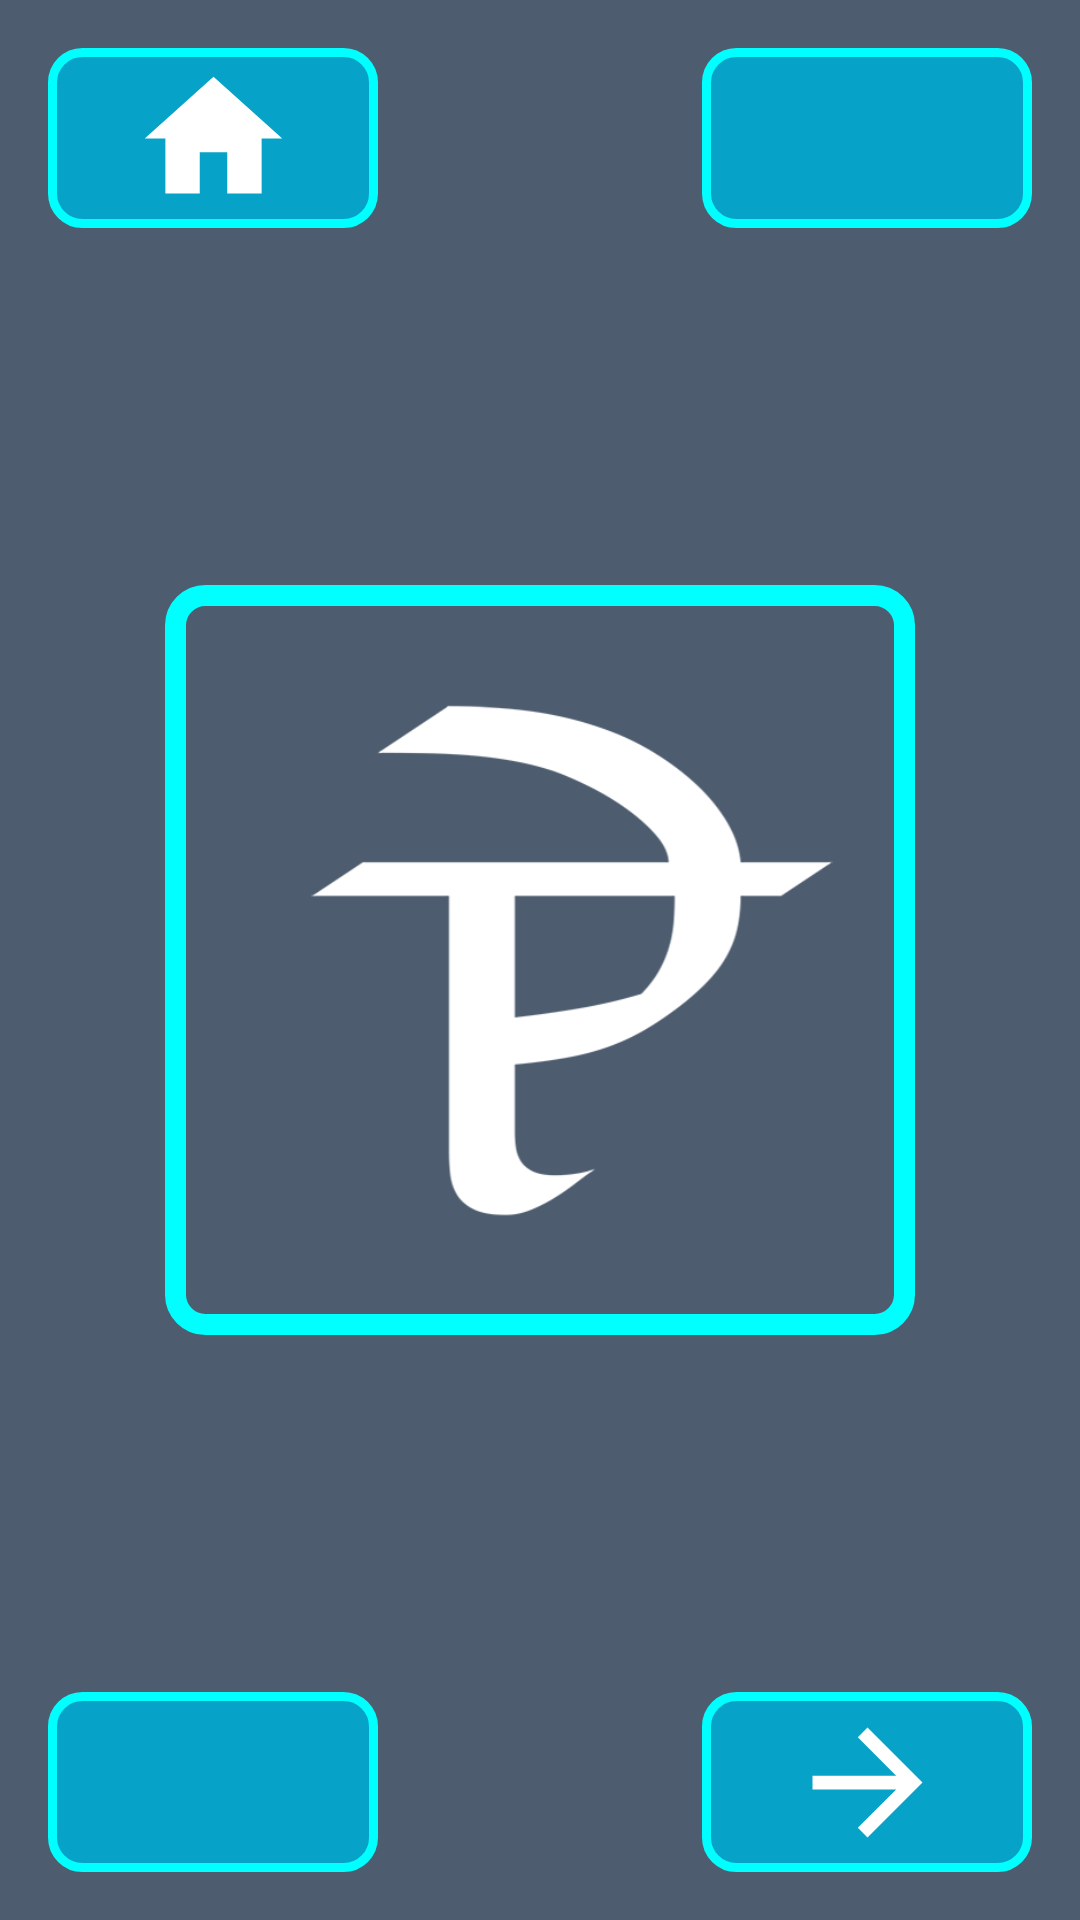

Icon bounding boxes for this 1080*1920 phone screenshot, format (x1, y1, x2, y2):
arrow forward: (702, 1692, 1032, 1872)
home: (48, 48, 378, 228)
